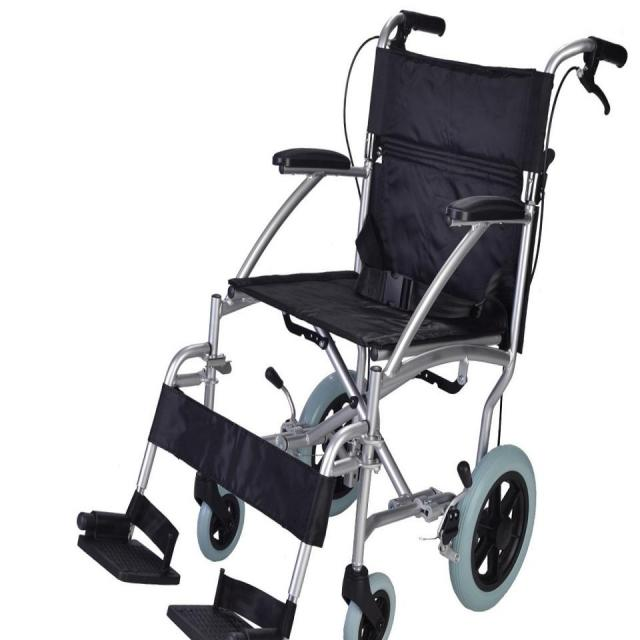wheelchair: (77, 2, 640, 636)
